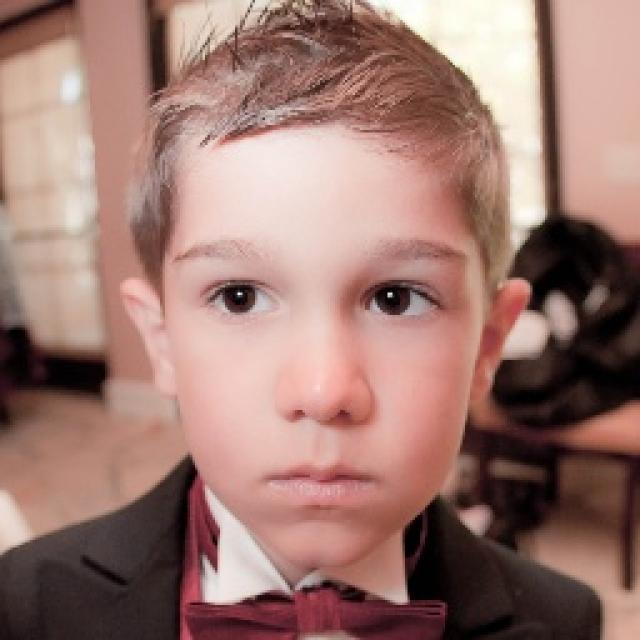earlobe: (469, 278, 531, 404), (118, 276, 179, 398)
